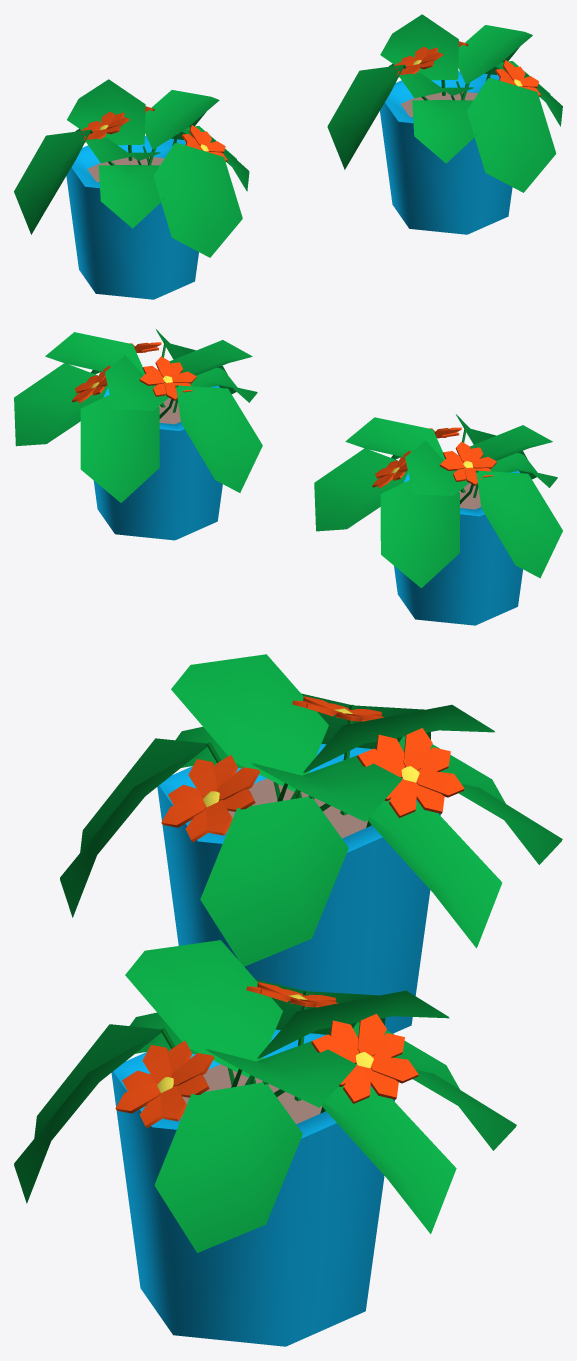
Rendered from FLORES.obj.
The picture shows the model from 3 angles, top to bottom: view 1: azimuth 30°, elevation 25°; view 2: azimuth 150°, elevation 25°; view 3: azimuth 270°, elevation 25°; orthographic projection. The views are drawn at different scales.
Parts seen in each view (by area): view 1: flower_001.001; view 2: flower_001.001; view 3: flower_001.001.
Part boxes in pixels (x1,y1,x2,y2): flower_001.001: (14,14,562,299); flower_001.001: (14,329,562,625); flower_001.001: (14,654,562,1346).
Size of the model in its own units: 0.8687 by 0.2718 by 0.4227.
1 material, 1 textured.
